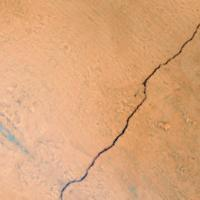crack: (56, 23, 199, 199)
